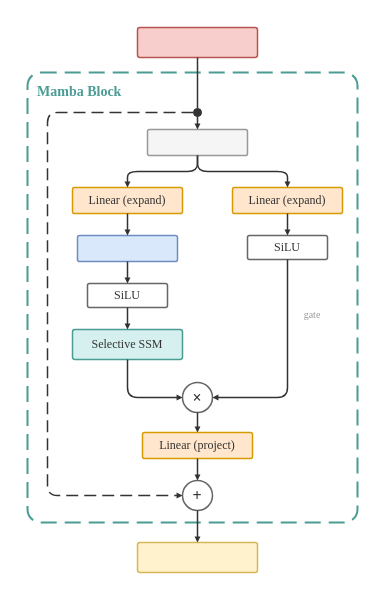
Some shapes in this 384 by 599 pixel diagram are drawn without their labels. Each missing label, with the box of its shape:
Conv1d: (76, 234, 178, 262)
Input: (136, 26, 258, 58)
Output: (136, 541, 258, 573)
RMSNorm: (146, 128, 248, 156)
